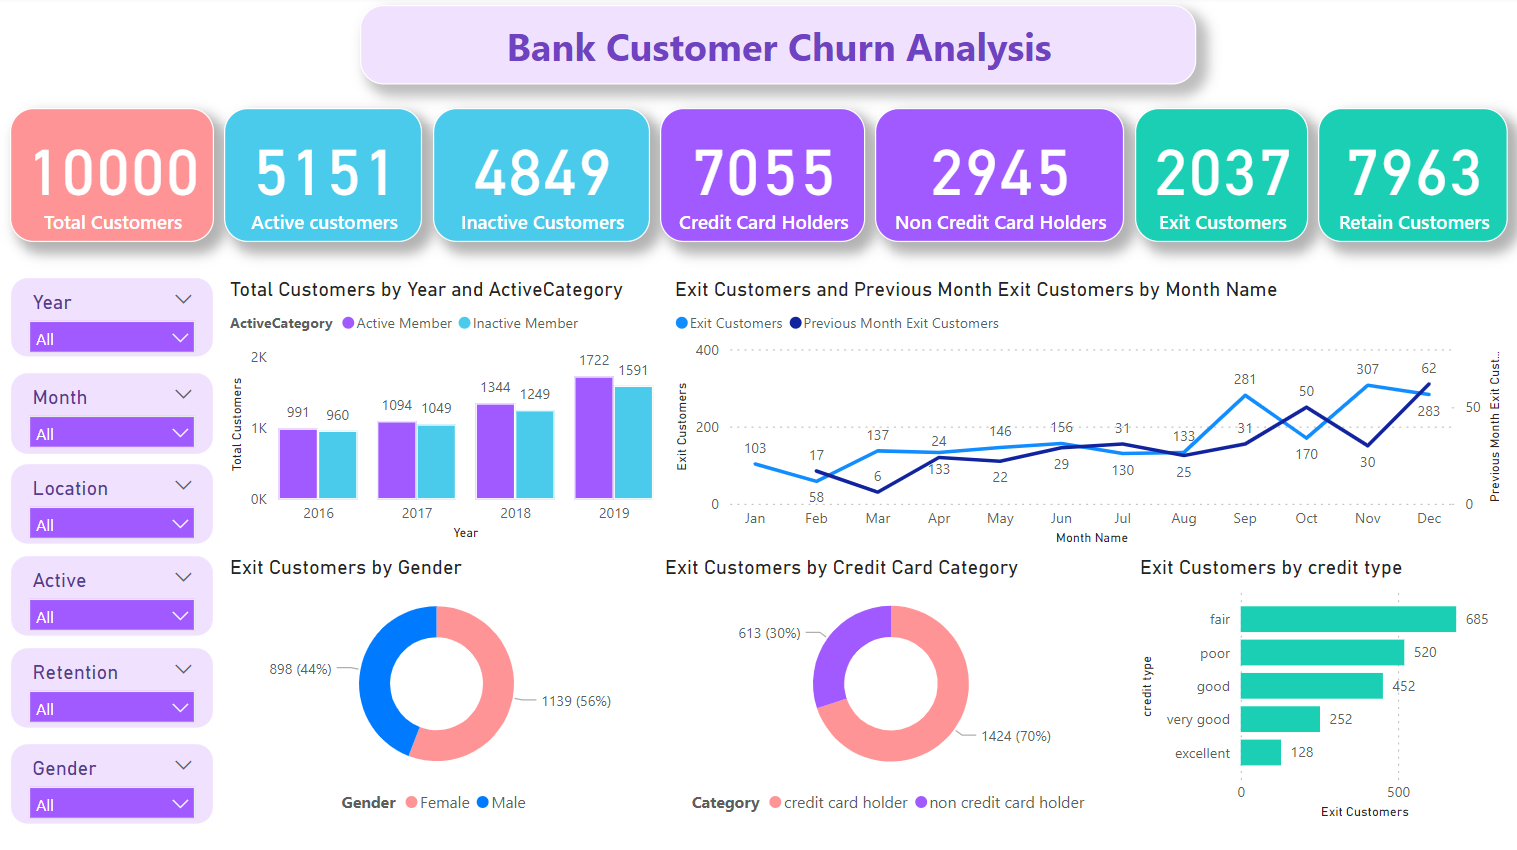

Layout of this report page (visuals, bound fields, positions):
{"tool":"powerbi","page":{"name":"Page 1","canvas":[1280,720],"ordinal":0},"visuals":[{"type":"card","fields":{"Values":["Calculations.Total Customers"]},"box":[9.5,94,171.9,113],"z":0},{"type":"card","fields":{"Values":["Calculations.Active customers"]},"box":[189.6,94,167.1,113],"z":1000},{"type":"card","fields":{"Values":["Calculations.Inactive Customers"]},"box":[366.2,94,182.5,113],"z":2000},{"type":"card","fields":{"Values":["Calculations.Credit Card Holders"]},"box":[557,94,173,113],"z":3000},{"type":"card","fields":{"Values":["Calculations.Non Credit Card Holders"]},"box":[738.4,94,209.8,113],"z":4000},{"type":"card","fields":{"Values":["Calculations.Exit Customers"]},"box":[957.6,94,145.8,113],"z":5000},{"type":"card","fields":{"Values":["Calculations.Retain Customers"]},"box":[1111.7,94,160,113],"z":6000},{"type":"textbox","box":[304.1,6.5,704.6,67.4],"z":7000},{"type":"slicer","fields":{"Values":["DateMaster.Year"]},"box":[9.4,235.8,172.2,68.3],"z":8000},{"type":"slicer","fields":{"Values":["DateMaster.Month Name"]},"box":[9.4,316.3,172.2,70.2],"z":9000},{"type":"slicer","fields":{"Values":["Geography.GeographyLocation"]},"box":[9.4,393,172.2,69.2],"z":10000},{"type":"slicer","fields":{"Values":["ActiveCustomer.ActiveCategory"]},"box":[9.4,470.6,172.2,69.2],"z":11000},{"type":"slicer","fields":{"Values":["ExitCustomer.ExitCategory"]},"box":[9.4,548.3,172.2,69.2],"z":12000},{"type":"slicer","fields":{"Values":["Gender.GenderCategory"]},"box":[9.4,628.8,172.2,69.2],"z":13000},{"type":"clusteredColumnChart","fields":{"Category":["DateMaster.Year","DateMaster.Month Name"],"Y":["Calculations.Total Customers"],"Series":["ActiveCustomer.ActiveCategory"]},"box":[189.9,235.8,366.8,226.4],"z":14000},{"type":"lineChart","fields":{"Y":["Calculations.Exit Customers"],"Category":["DateMaster.Year","DateMaster.Month Name"],"Y2":["Calculations.Previous Month Exit Customers"]},"box":[565.1,235.8,706.4,230.2],"z":15000},{"type":"donutChart","title":"Exit Customers by Gender ","fields":{"Y":["Calculations.Exit Customers"],"Category":["Gender.Gender Category"]},"box":[189.9,470.6,358.4,227.4],"z":15001},{"type":"clusteredBarChart","fields":{"Category":["Bank_Churn.credit type"],"Y":["Calculations.Exit Customers"]},"box":[957.2,470.6,314.4,227.4],"z":15002},{"type":"donutChart","title":"Exit Customers by Credit Card Category","fields":{"Category":["CreditCard.Category"],"Y":["Calculations.Exit Customers"]},"box":[556.7,470.6,391.1,227.4],"z":15003}]}

Visuals, with their boxes in screenshot pixels (x1, y1, x2, y2), scaled from the page's 1280x720 canvas onto the 1517x850 screenshot:
card - Calculations.Total Customers: 11/111/215/244
card - Calculations.Active customers: 225/111/423/244
card - Calculations.Inactive Customers: 434/111/650/244
card - Calculations.Credit Card Holders: 660/111/865/244
card - Calculations.Non Credit Card Holders: 875/111/1124/244
card - Calculations.Exit Customers: 1135/111/1308/244
card - Calculations.Retain Customers: 1318/111/1507/244
textbox: 360/8/1195/87
slicer - DateMaster.Year: 11/278/215/359
slicer - DateMaster.Month Name: 11/373/215/456
slicer - Geography.GeographyLocation: 11/464/215/546
slicer - ActiveCustomer.ActiveCategory: 11/556/215/637
slicer - ExitCustomer.ExitCategory: 11/647/215/729
slicer - Gender.GenderCategory: 11/742/215/824
clusteredColumnChart - DateMaster.Year x DateMaster.Month Name: 225/278/660/546
lineChart - Calculations.Exit Customers x DateMaster.Year: 670/278/1507/550
"Exit Customers by Gender " donutChart: 225/556/650/824
clusteredBarChart - Bank_Churn.credit type x Calculations.Exit Customers: 1134/556/1507/824
"Exit Customers by Credit Card Category" donutChart: 660/556/1123/824
